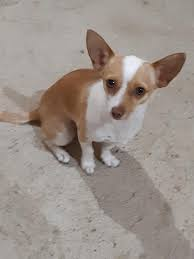chihuahua: (5, 15, 189, 189)
